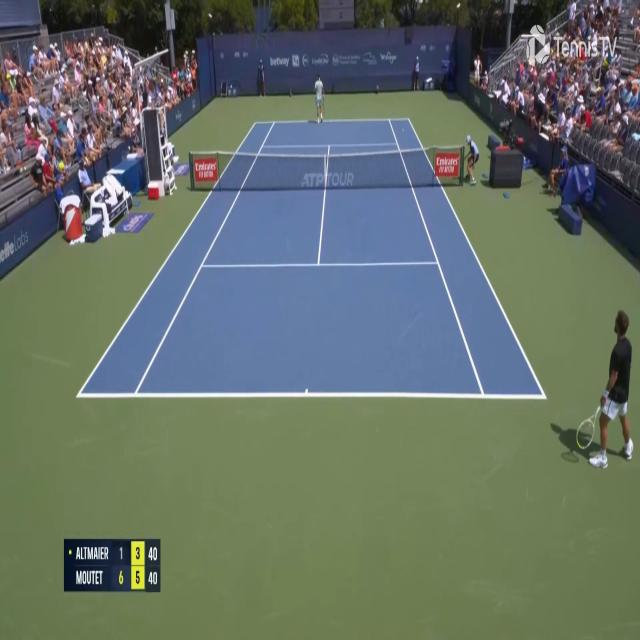tennis-player: (575, 303, 640, 473), (314, 73, 325, 124)
